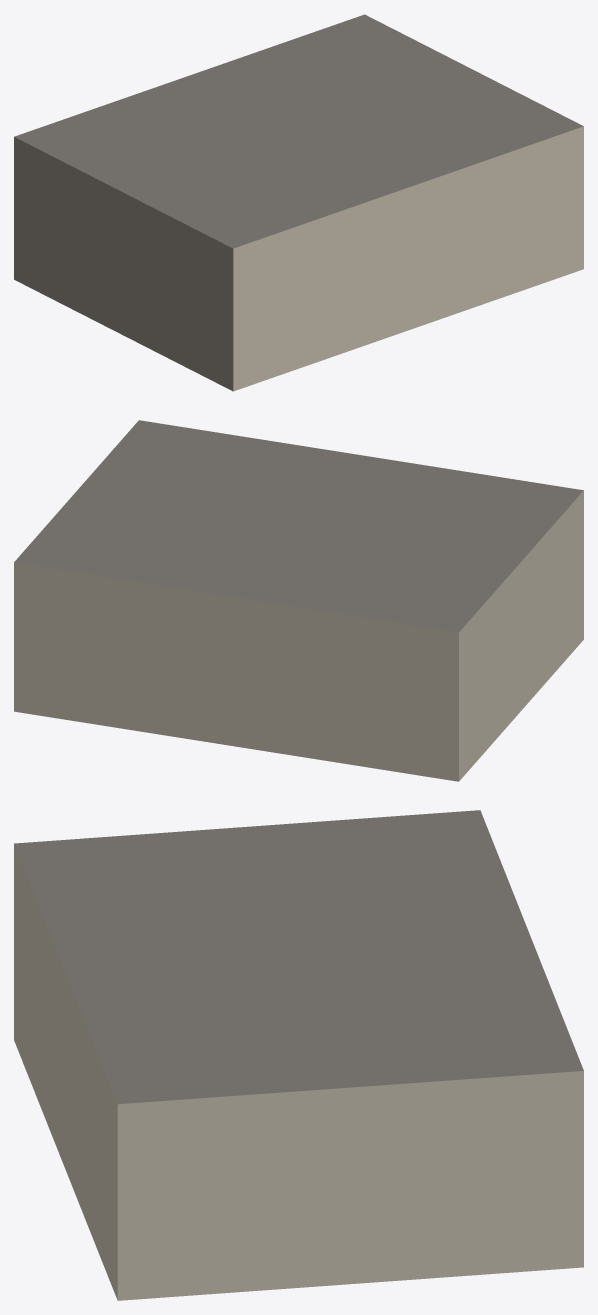
3 renders of one model, top to bottom at view 1: azimuth 30°, elevation 25°; view 2: azimuth 150°, elevation 25°; view 3: azimuth 270°, elevation 25°, orthographic. The views are drawn at different scales.
Parts seen in each view (by area): view 1: HP-w293504491; view 2: HP-w293504491; view 3: HP-w293504491.
Part boxes in pixels (<box>): HP-w293504491: <box>14,14,583,391</box>; HP-w293504491: <box>14,420,583,781</box>; HP-w293504491: <box>14,810,583,1300</box>.
Bounding box in the file's own units: 48.14 × 15 × 39.42.
